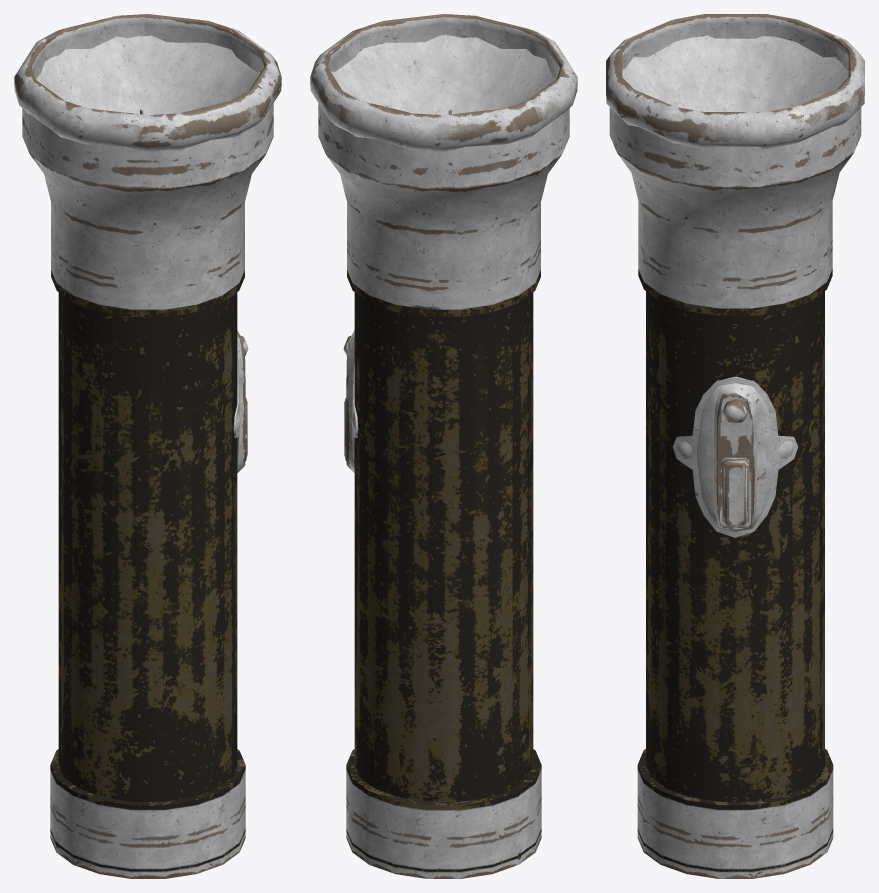
The model's file is Hotel-Espir_Flashlight.fbx.
3 renders of one model, left to right at view 1: azimuth 30°, elevation 25°; view 2: azimuth 150°, elevation 25°; view 3: azimuth 270°, elevation 25°, orthographic.
Visible parts, largest first — view 1: Flashlight; view 2: Flashlight; view 3: Flashlight.
Boxes of the visible parts, x1=… form: Flashlight: x1=14, y1=14, x2=281, y2=878; Flashlight: x1=310, y1=14, x2=577, y2=878; Flashlight: x1=606, y1=14, x2=864, y2=878.
Bounding box in the file's own units: 9.04 × 30.33 × 9.04.
